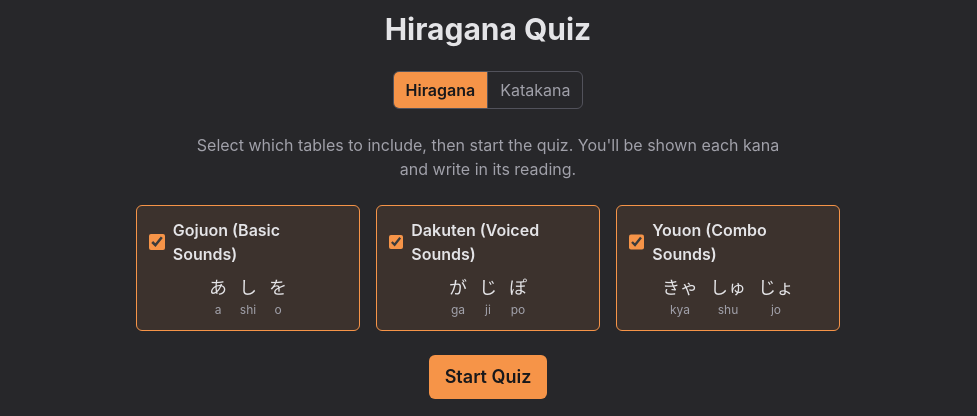
Test case: KanaQuizSelect › resets the selection to all tables when navigating to a different kana sheet
Note: deselect one hiragana table before switching sheets
Click the checkbox labelled "Dakuten (Voiced Sounds) が ga じ ji ぽ po": (396, 242) [389,234,403,250]
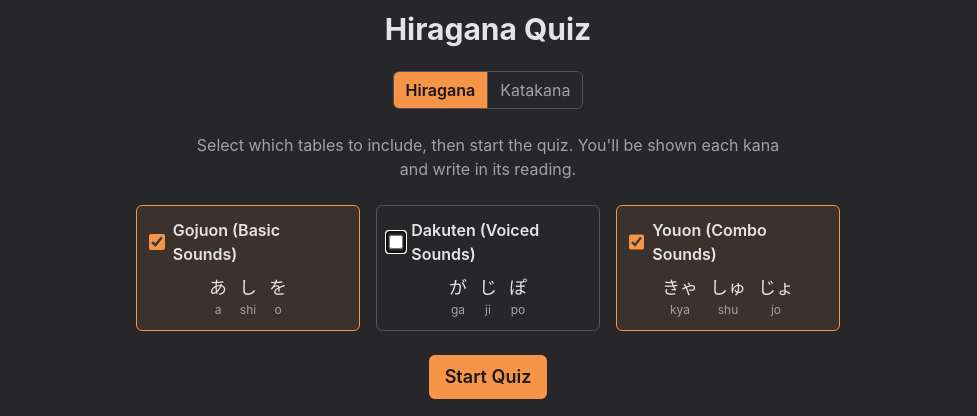
Click the link "Katakana": (535, 90) [500,80,570,100]
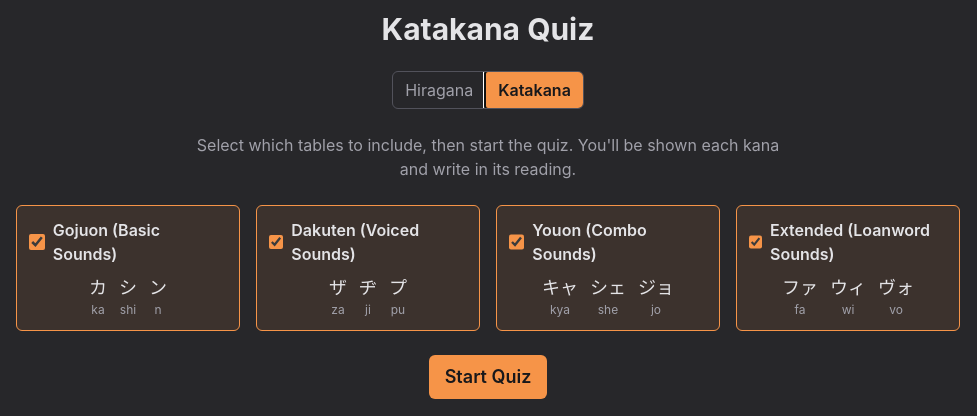
Now the checkbox labelled "Dakuten (Voiced Sounds) ザ za ヂ ji プ pu" is checked, box [269,234,283,250]
Now the text "Extended (Loanword Sounds)" is shown, box [770,218,947,266]
Now the checkbox labelled "Extended (Loanword Sounds) ファ fa ウィ wi ヴォ vo" is checked, box [749,234,762,250]
